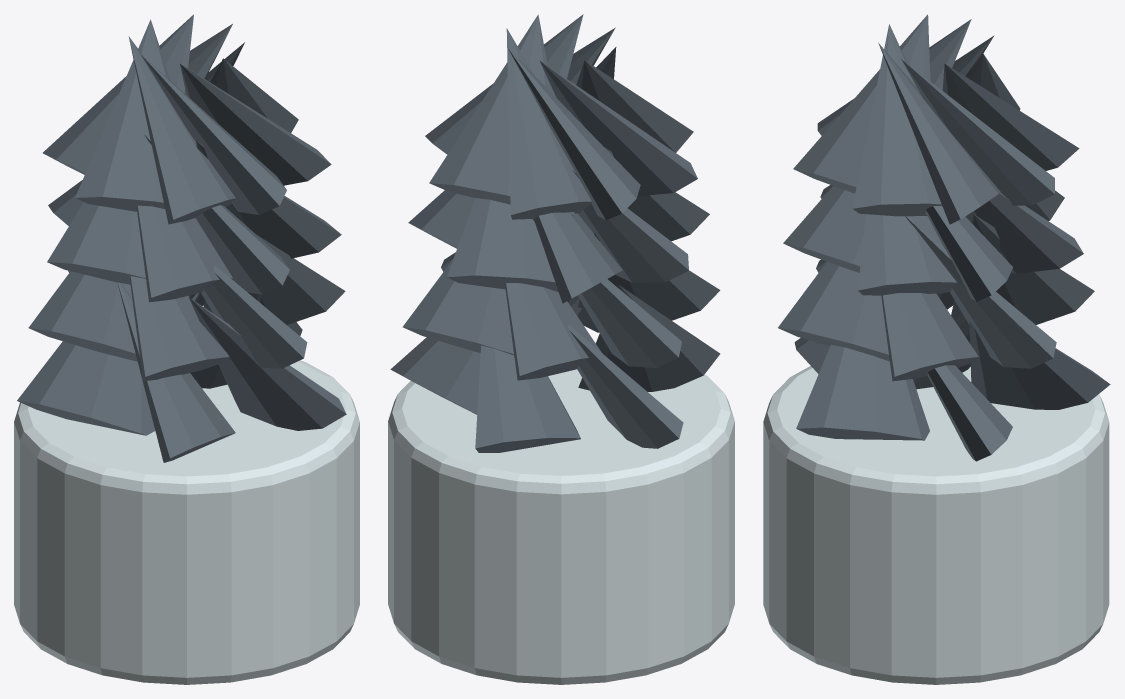
File: ai.plant-potted.glb
The picture shows the model from 3 angles, left to right: view 1: azimuth 30°, elevation 25°; view 2: azimuth 150°, elevation 25°; view 3: azimuth 270°, elevation 25°; orthographic projection.
Visible parts, largest first — view 1: Hero_Asset; view 2: Hero_Asset; view 3: Hero_Asset.
Boxes of the visible parts, x1,y1,x2,y2 form: Hero_Asset: (14, 14, 359, 684); Hero_Asset: (388, 14, 734, 684); Hero_Asset: (763, 14, 1110, 684).
Size of the model in its own units: 0.4768 by 0.88 by 0.4787.
